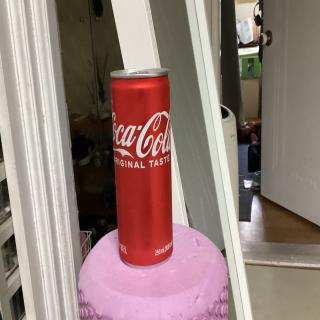cocacola: (104, 64, 180, 267)
